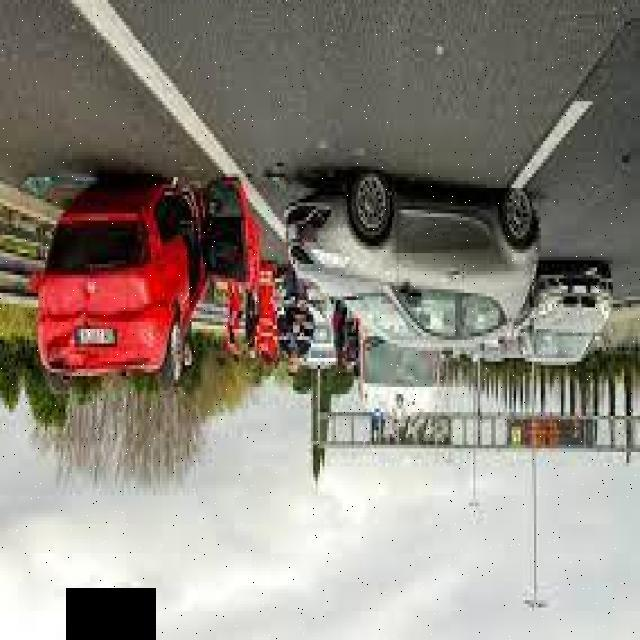severe: (38, 170, 257, 387)
